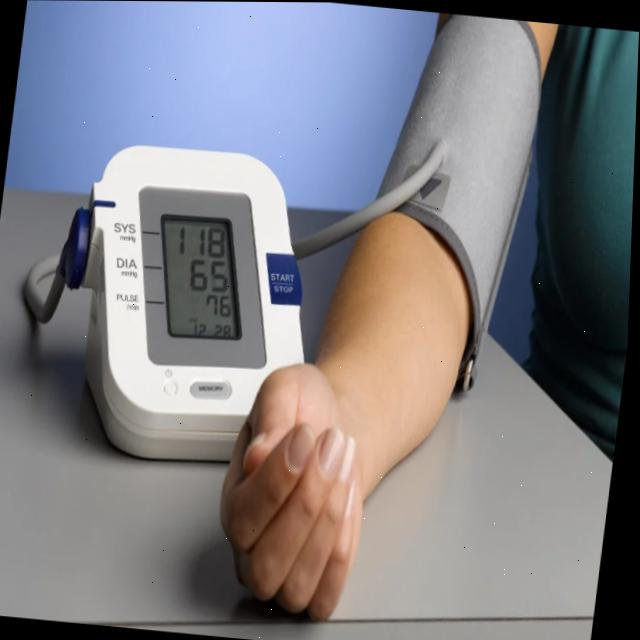dia: (187, 254, 231, 293)
pul: (206, 288, 235, 320)
ssd: (163, 215, 243, 340)
sys: (178, 214, 234, 257)
